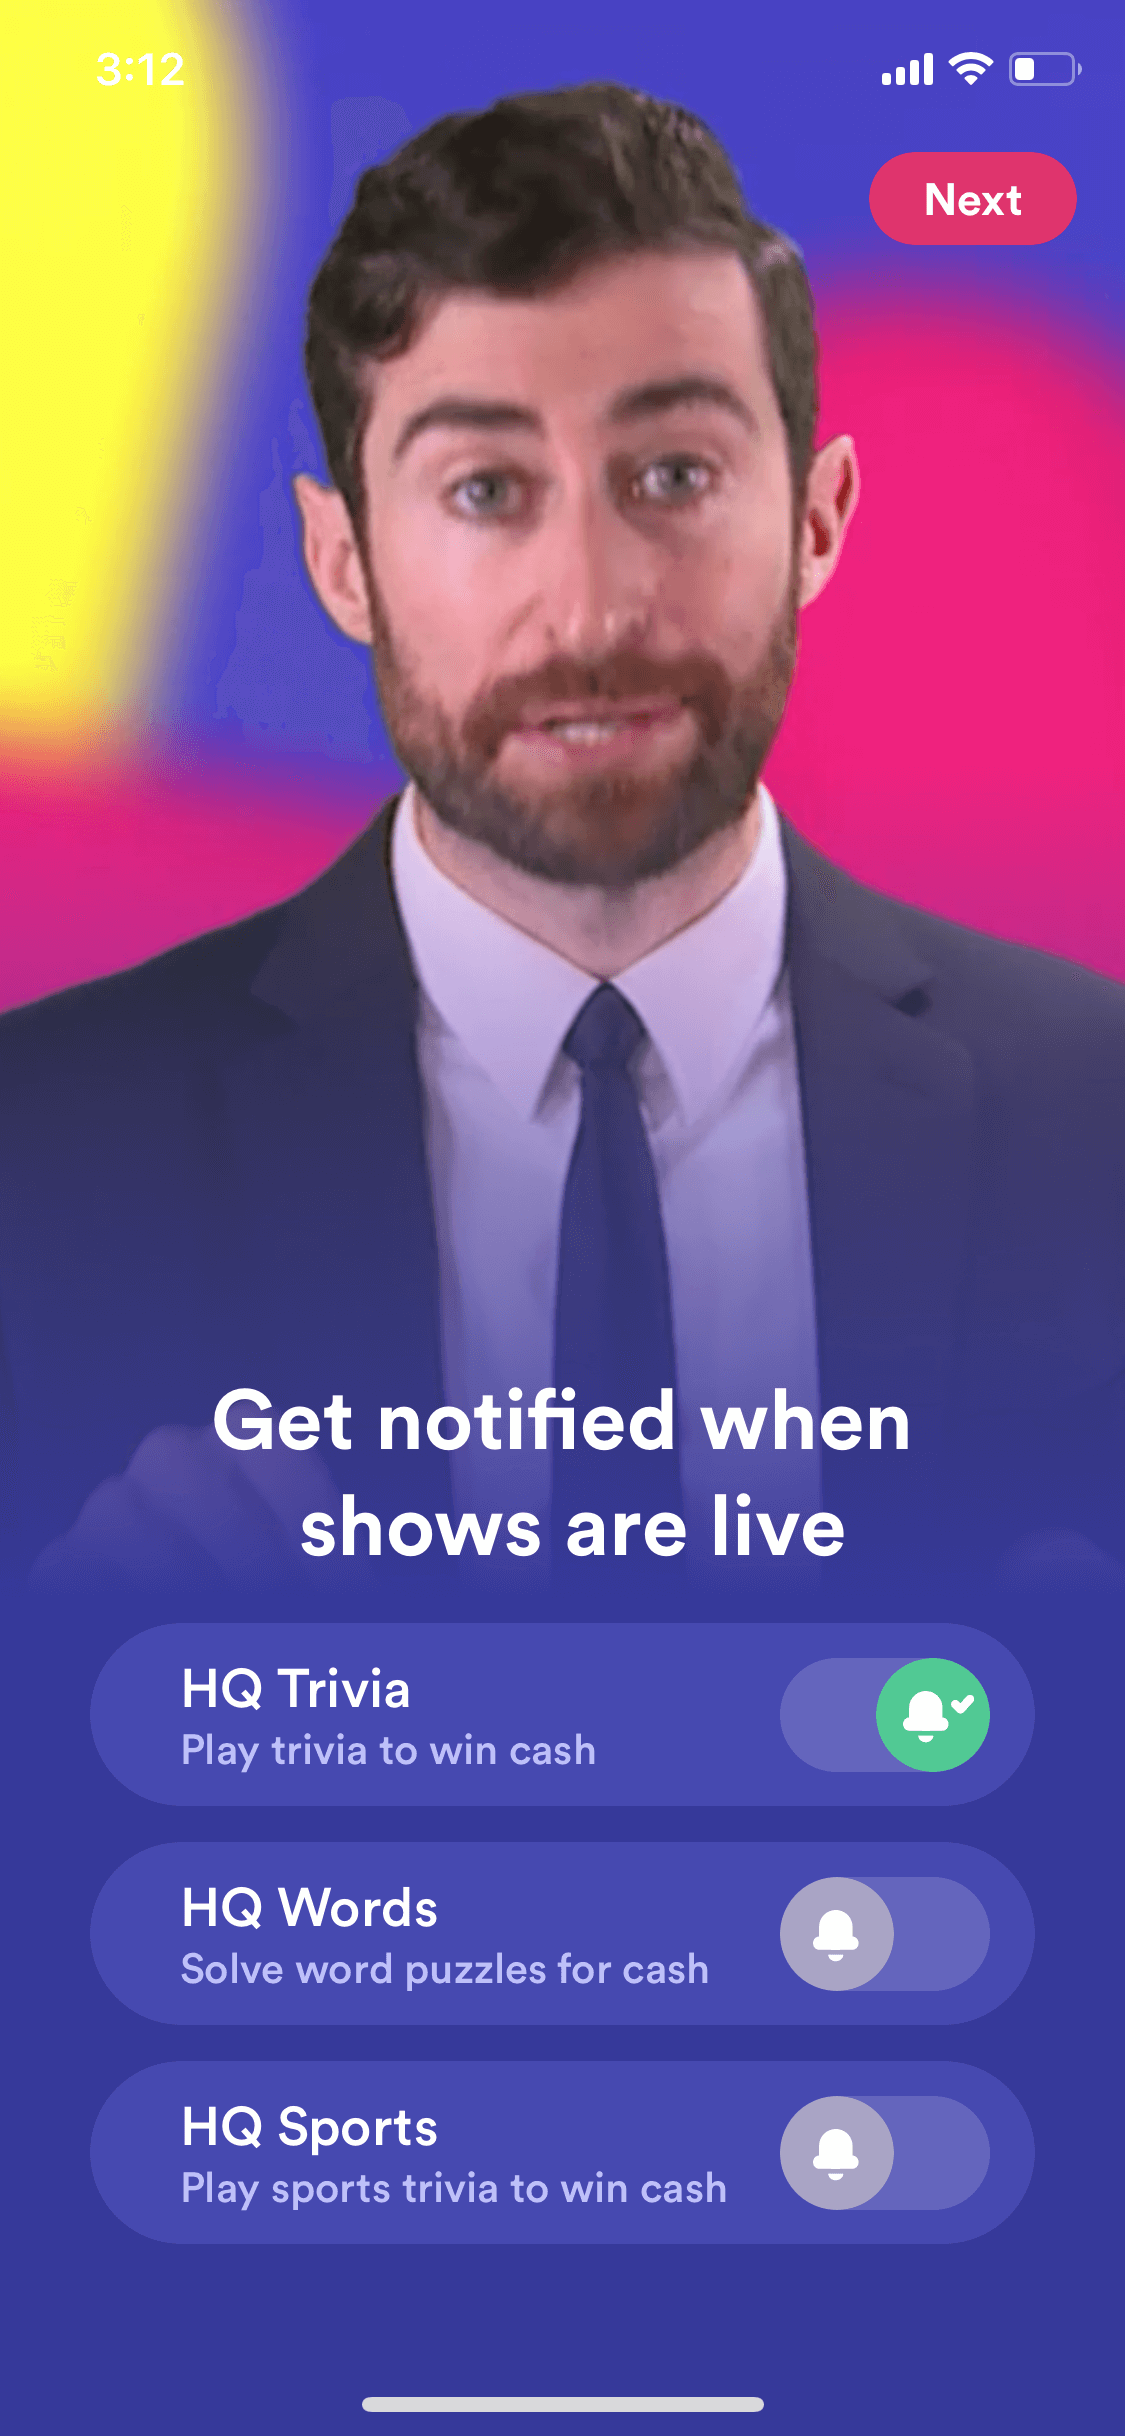Buttons: (845, 127, 1106, 261)
Switches: (752, 1639, 998, 1787), (760, 1867, 1004, 2003), (765, 2088, 1005, 2218)
